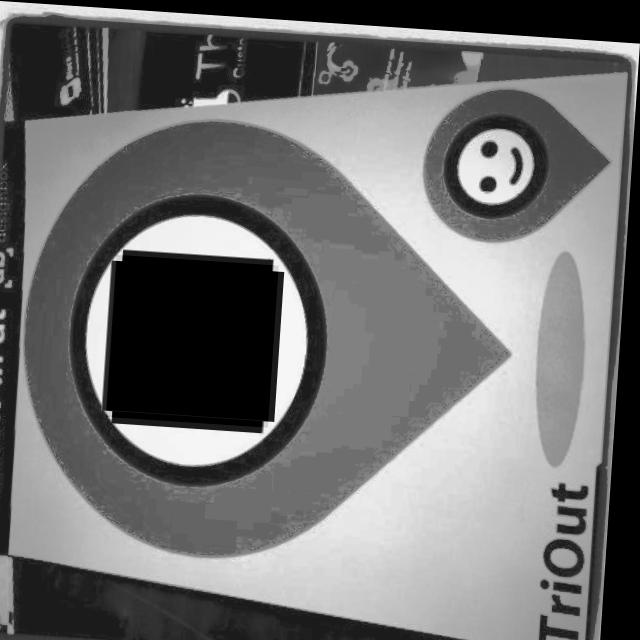qr_code: (112, 252, 282, 422)
